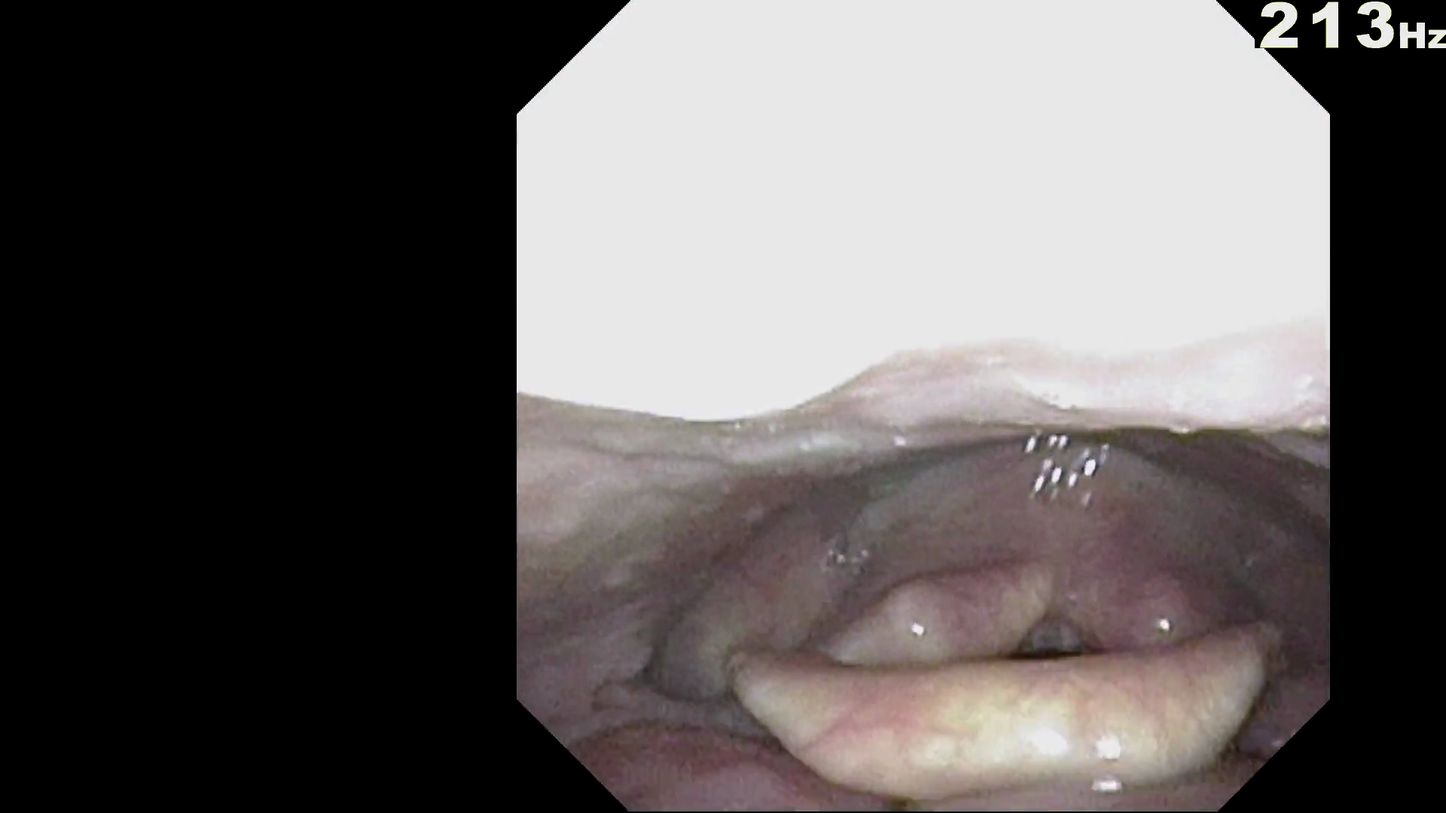epiglottis: (703, 649, 1245, 789)
trachea: (957, 600, 1102, 698)
